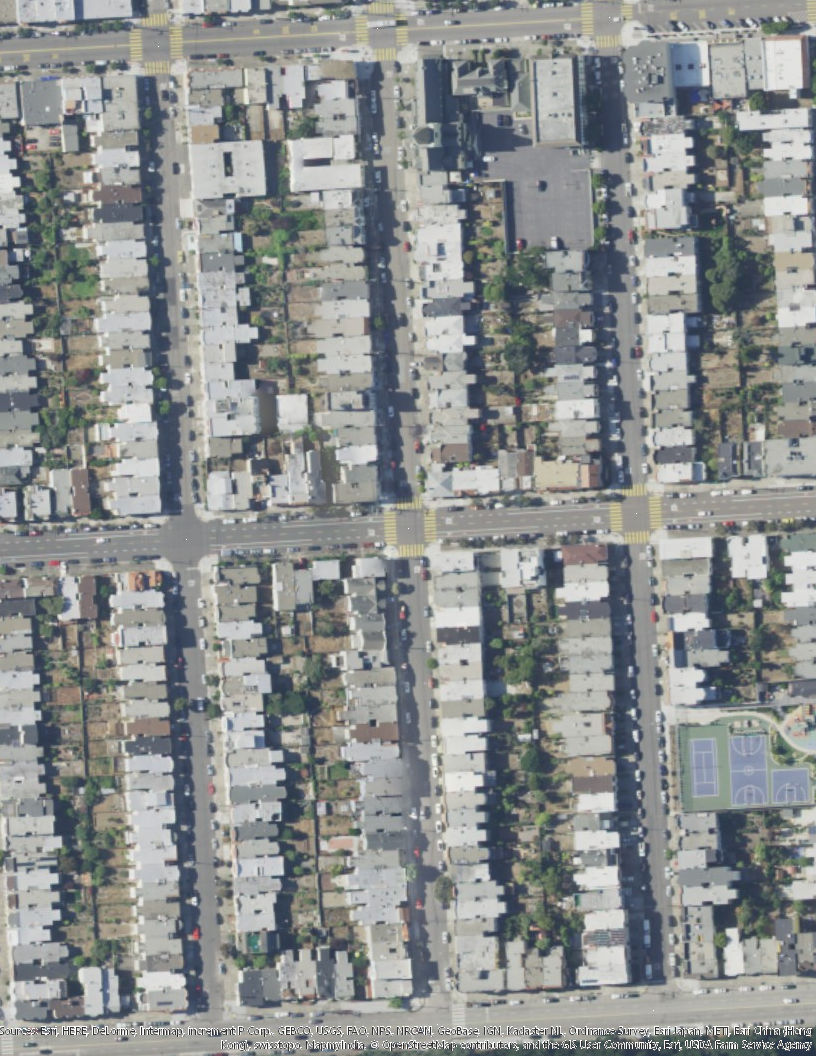zebracross: (381, 505, 398, 547), (393, 492, 424, 513), (580, 2, 597, 36), (422, 506, 438, 542), (591, 35, 626, 51), (648, 496, 664, 529), (619, 481, 648, 499), (396, 11, 410, 47), (129, 27, 143, 62), (394, 545, 426, 560), (620, 529, 652, 544), (355, 14, 369, 48), (364, 1, 397, 15), (609, 500, 624, 530), (171, 26, 184, 60), (141, 13, 170, 28), (374, 46, 398, 63), (144, 60, 172, 72), (621, 3, 636, 20)
